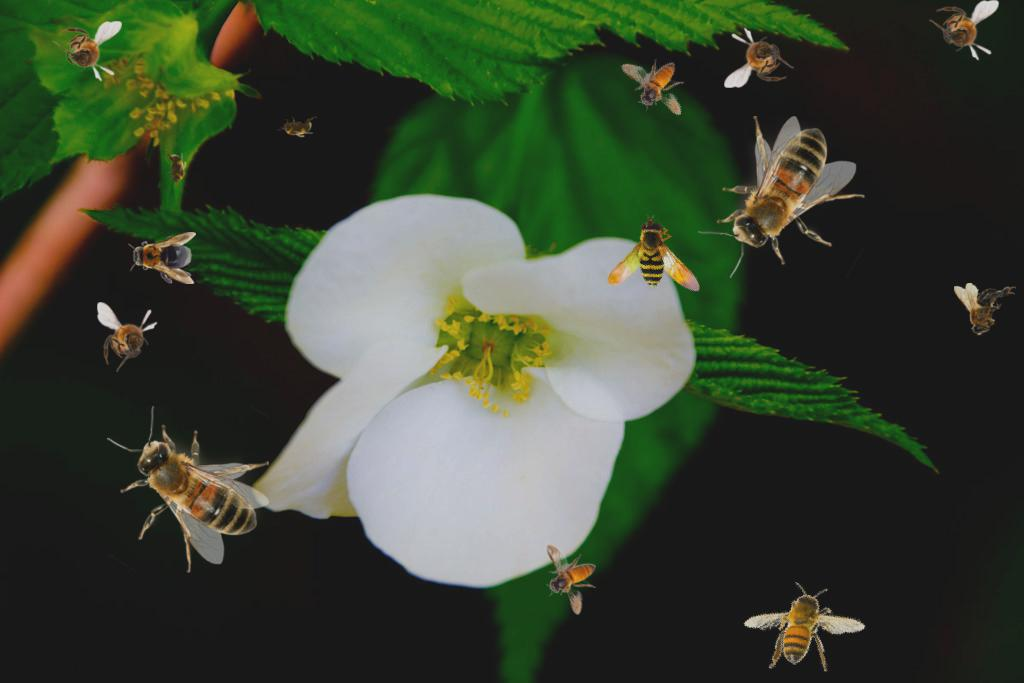Bee: (107, 406, 269, 573), (698, 116, 865, 278), (736, 563, 877, 683), (599, 211, 719, 331), (619, 43, 697, 130), (52, 21, 122, 82), (97, 302, 158, 372), (929, 0, 999, 61), (724, 27, 794, 88), (546, 544, 596, 615), (128, 232, 196, 284), (954, 283, 1016, 336), (165, 149, 187, 189), (277, 116, 317, 138)
